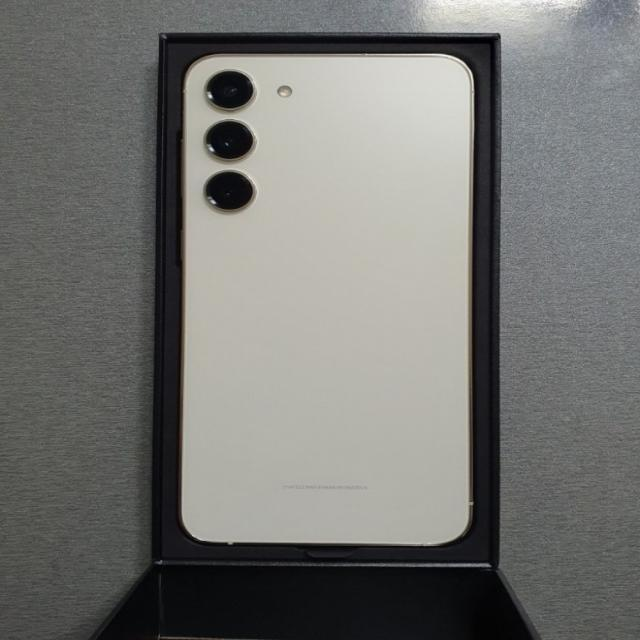phone: (181, 51, 474, 552)
